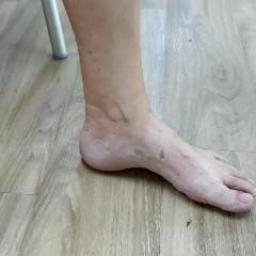Medial View -Left Foot-: (61, 72, 255, 228)
